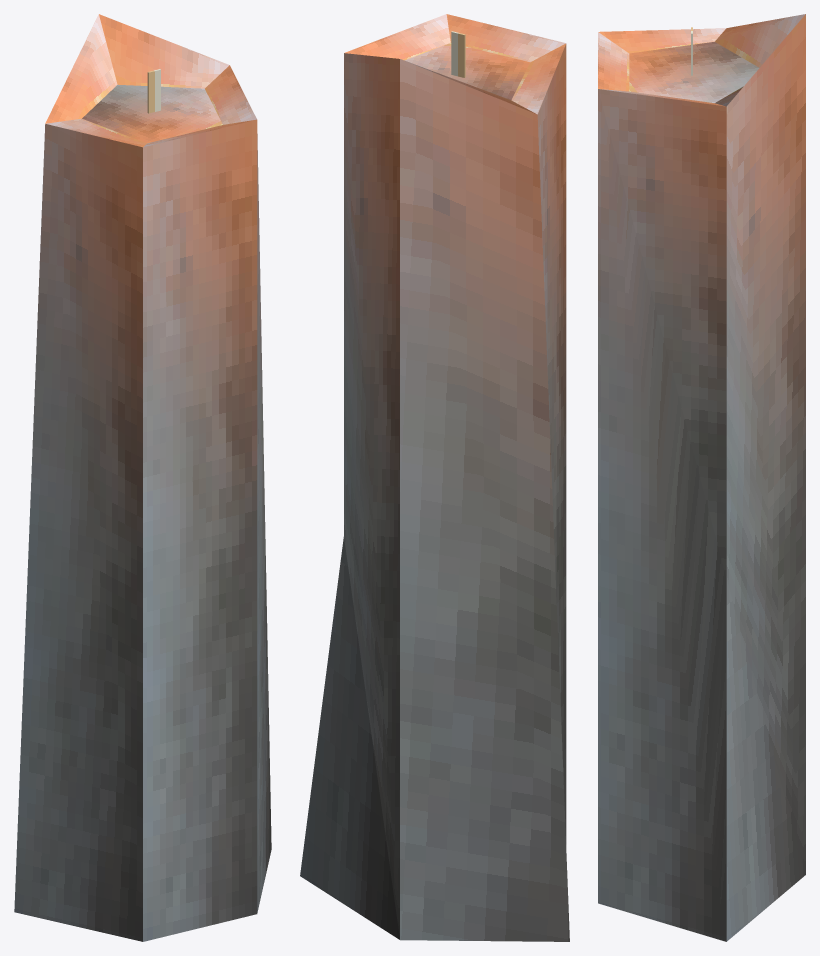
Rendered from candle1.glb.
The picture shows the model from 3 angles, left to right: view 1: azimuth 30°, elevation 25°; view 2: azimuth 150°, elevation 25°; view 3: azimuth 270°, elevation 25°; orthographic projection. The views are drawn at different scales.
Parts seen in each view (by area): view 1: candle1; view 2: candle1; view 3: candle1.
Boxes of the visible parts, box(x1,y1,x2,y2) form: candle1: box(14, 14, 271, 941); candle1: box(300, 14, 569, 941); candle1: box(598, 14, 805, 941).
Size of the model in its own units: 0.053 by 0.1654 by 0.0362.
Materials: 1 (1 with a texture image).
